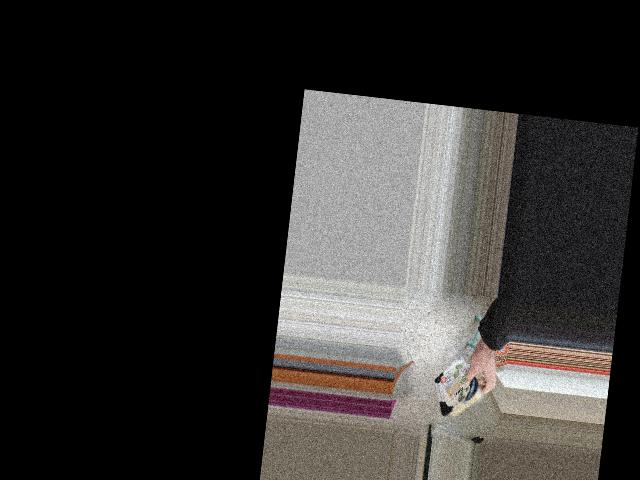cheese: (423, 359, 502, 422)
